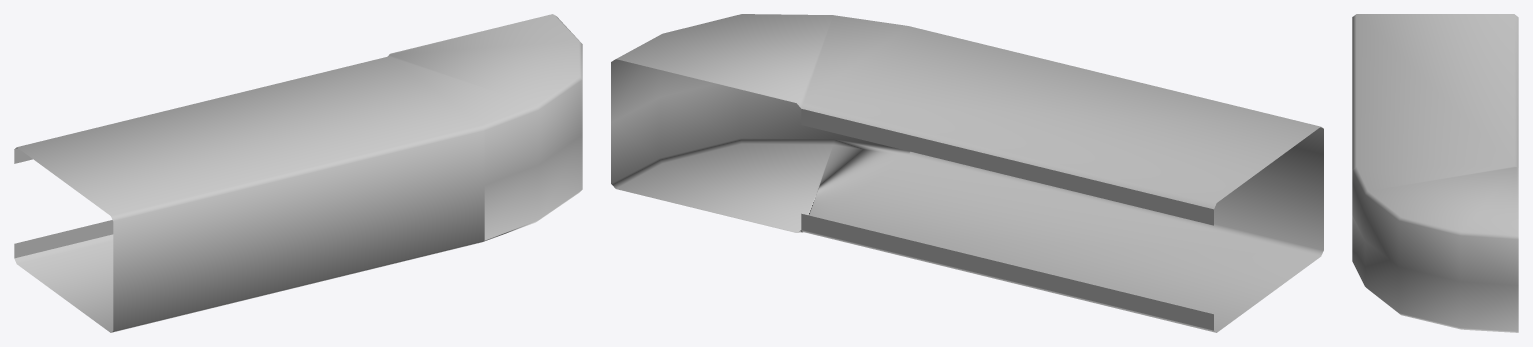
File: Curbe_Edge_1.FBX
The picture shows the model from 3 angles, left to right: view 1: azimuth 30°, elevation 25°; view 2: azimuth 150°, elevation 25°; view 3: azimuth 270°, elevation 25°; orthographic projection. The views are drawn at different scales.
Parts seen in each view (by area): view 1: CurbCorner_005; view 2: CurbCorner_005; view 3: CurbCorner_005.
Part boxes in pixels (box(x1,y1,x2,y2)): CurbCorner_005: box(14, 14, 582, 332); CurbCorner_005: box(611, 14, 1323, 332); CurbCorner_005: box(1352, 14, 1518, 332).
Size of the model in its own units: 102 by 21.06 by 32.27.
Materials: 2 (2 with a texture image).
